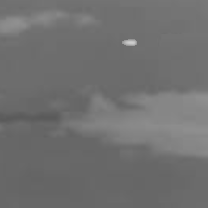Target: (121, 38, 138, 47)
